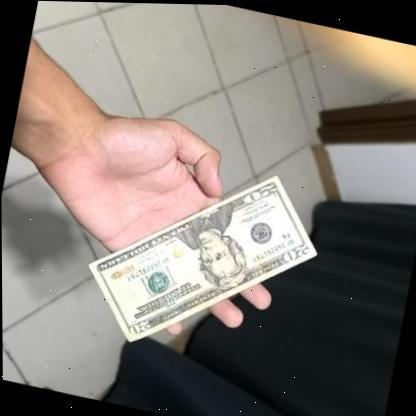dollar_front: (72, 138, 330, 378)
